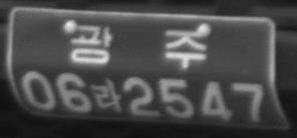0: (20, 68, 56, 110)
2: (122, 75, 160, 117)
4: (200, 81, 232, 122)
5: (160, 76, 196, 119)
6: (57, 72, 93, 113)
7: (233, 80, 264, 123)
광주_D: (68, 22, 207, 70)
라: (93, 77, 122, 112)
